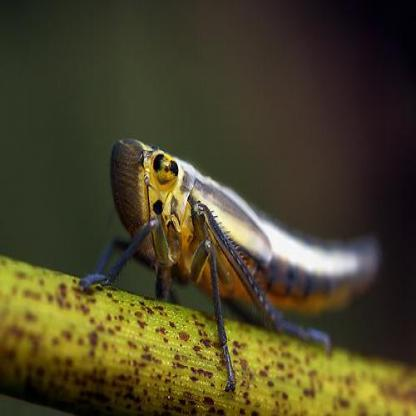Green-Leafhopper: (76, 138, 380, 398)
